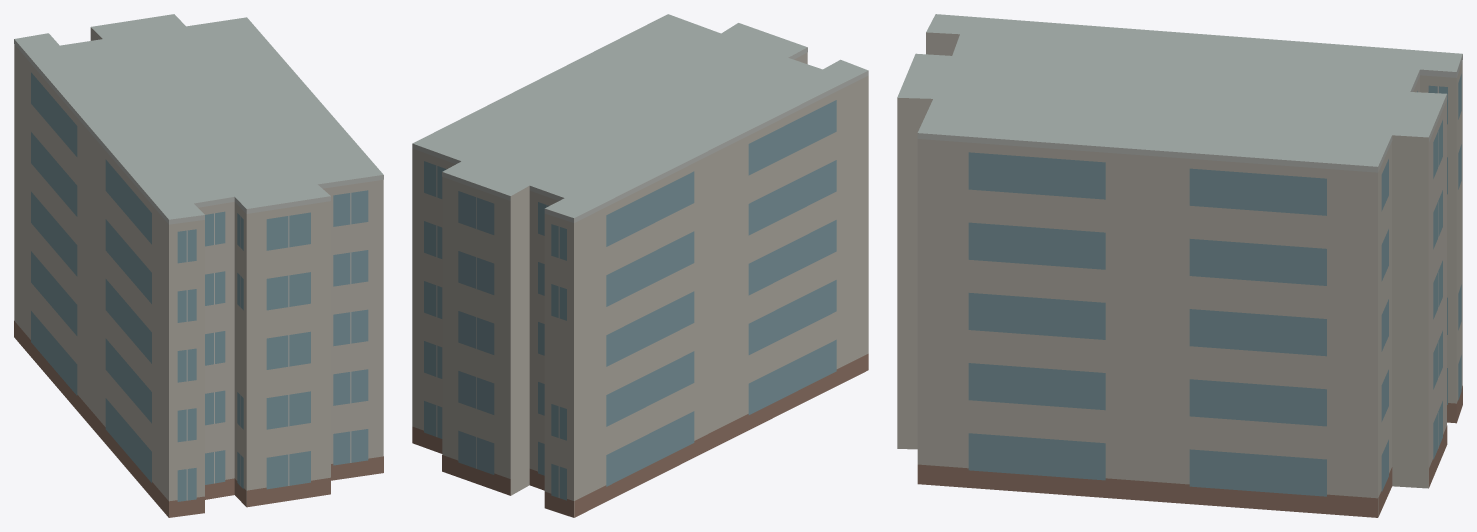
Rendered from survey-upis-32622383.glb.
3 views of the same model, side by side, from view 1: azimuth 30°, elevation 25°; view 2: azimuth 150°, elevation 25°; view 3: azimuth 270°, elevation 25° (orthographic). The views are drawn at different scales.
Visible parts, largest first — view 1: survey-upis-32622383.tmp; view 2: survey-upis-32622383.tmp; view 3: survey-upis-32622383.tmp.
Boxes of the visible parts, <box> form: survey-upis-32622383.tmp: <box>14,14,383,517</box>; survey-upis-32622383.tmp: <box>412,14,868,517</box>; survey-upis-32622383.tmp: <box>897,14,1462,517</box>.
Size of the model in its own units: 13.78 by 14.75 by 21.55.
